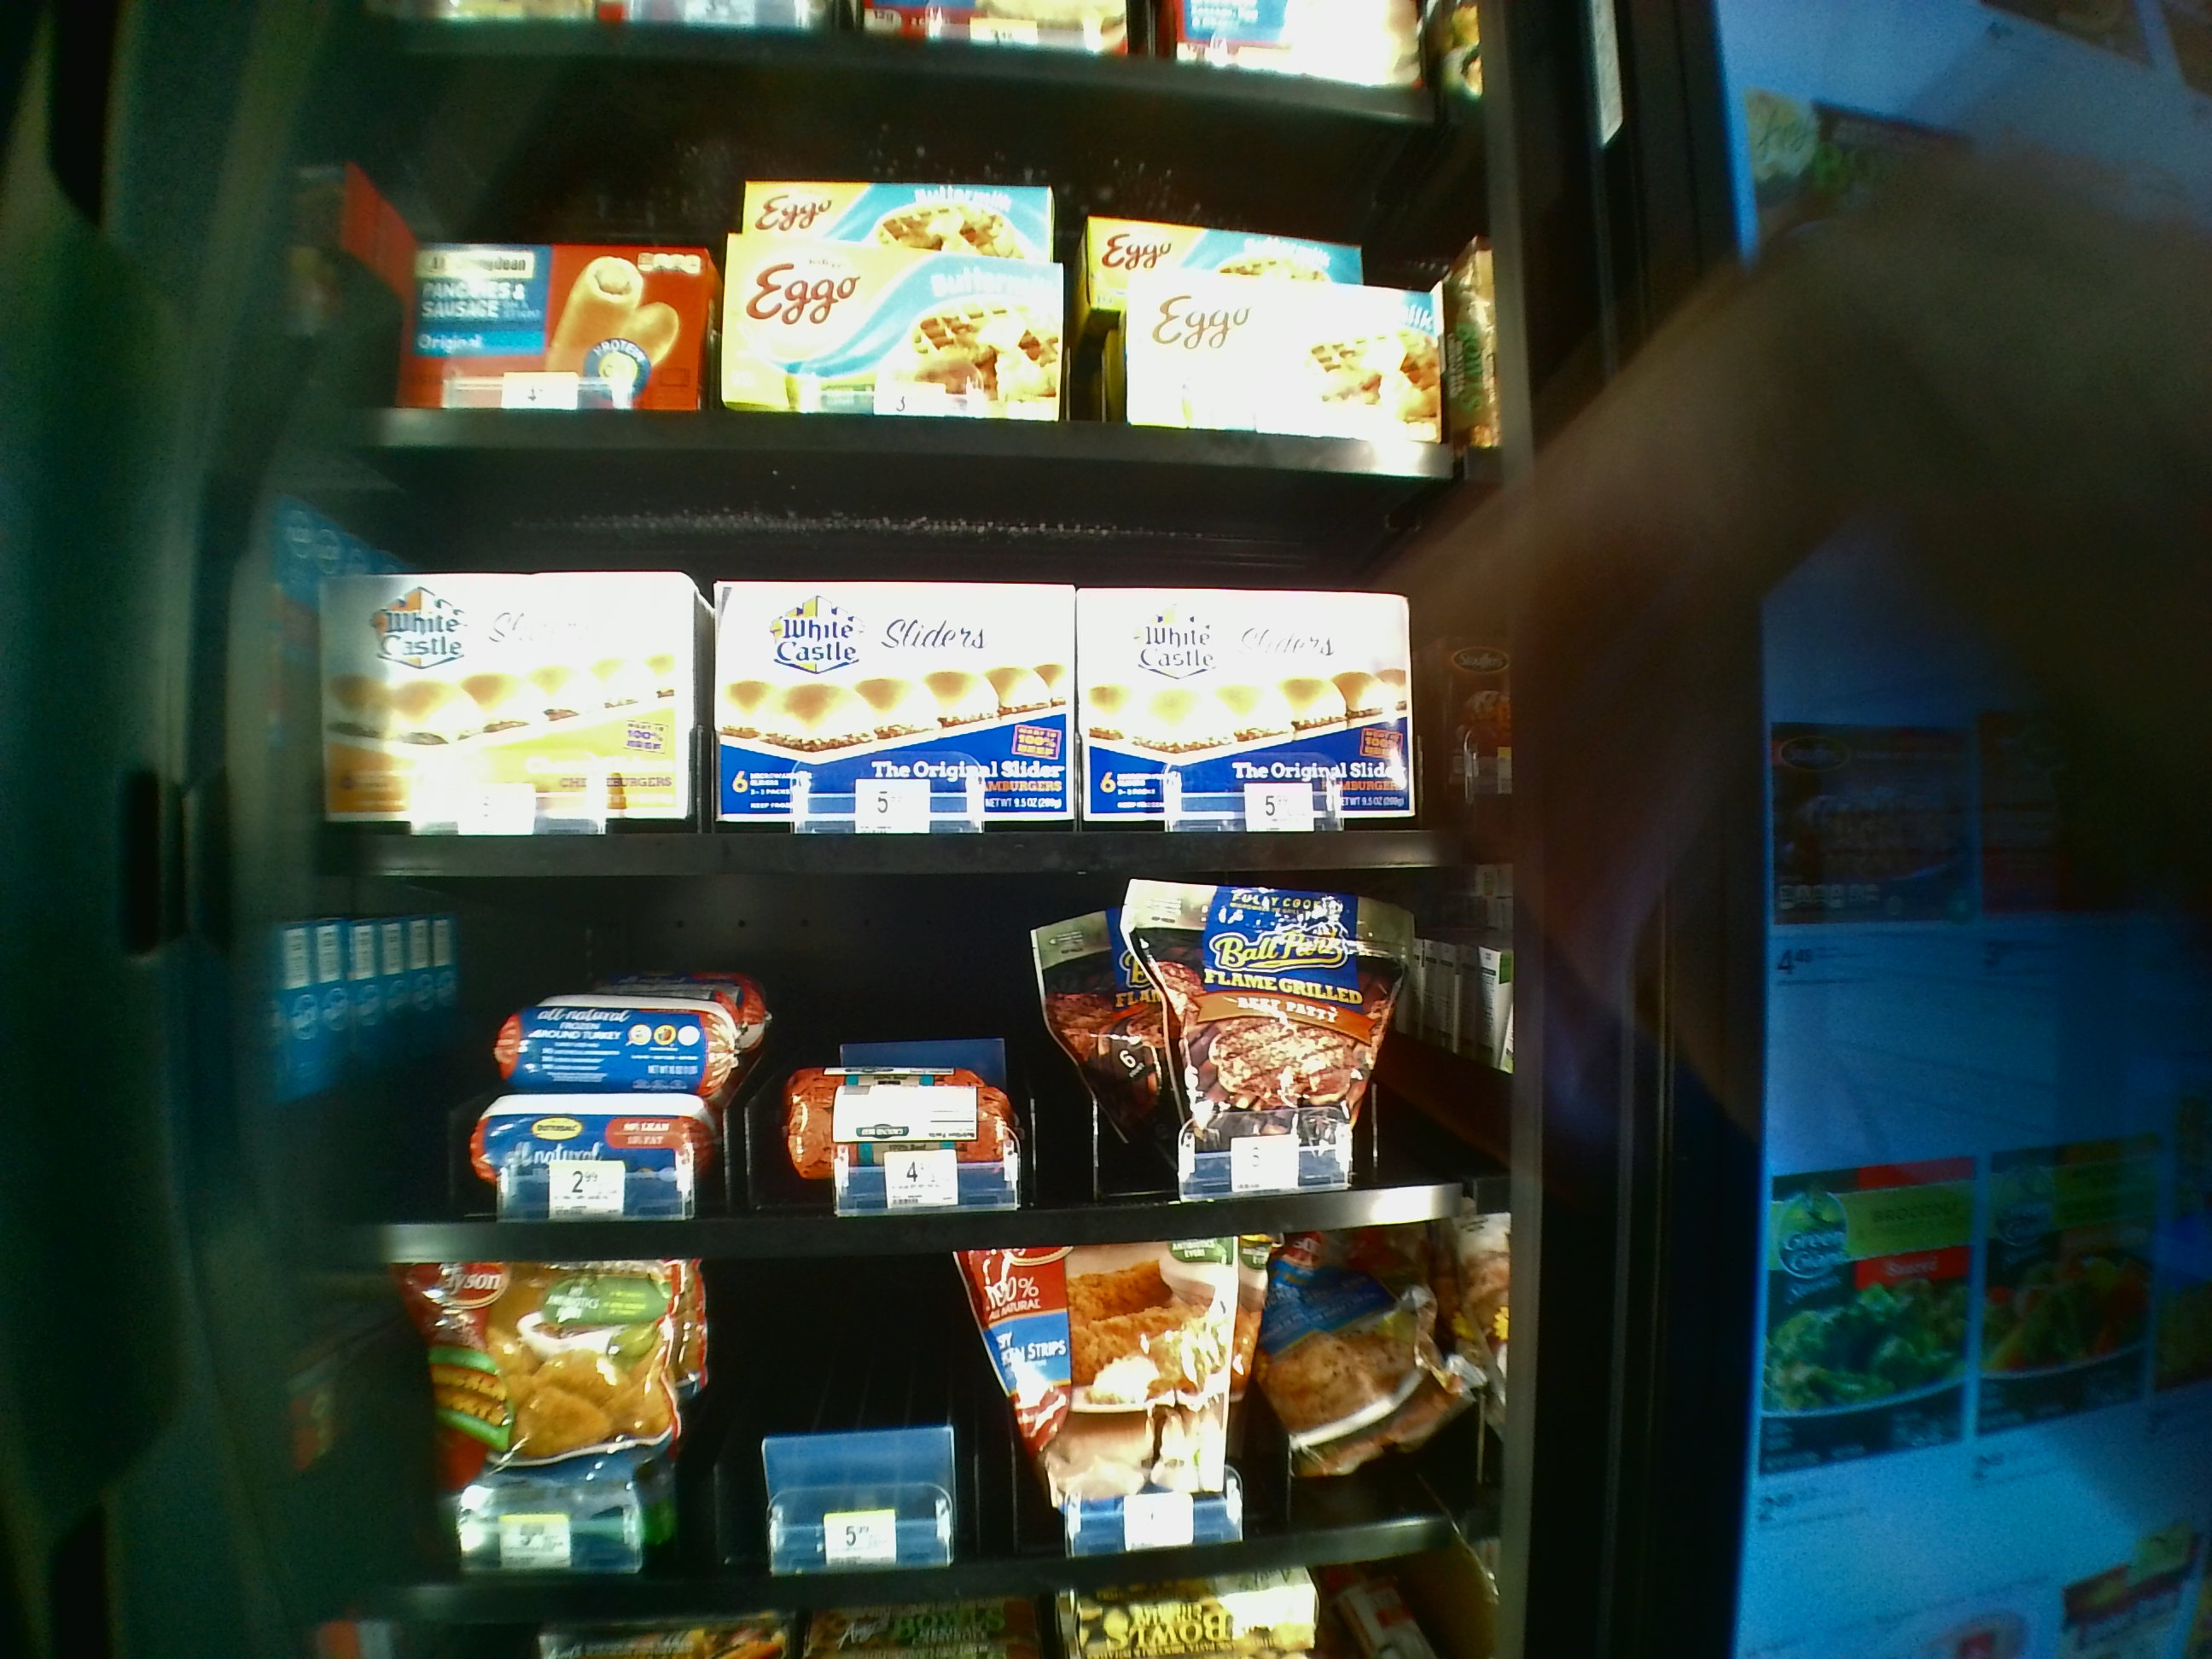shelf: (249, 448, 1508, 882), (249, 894, 1510, 1260)
